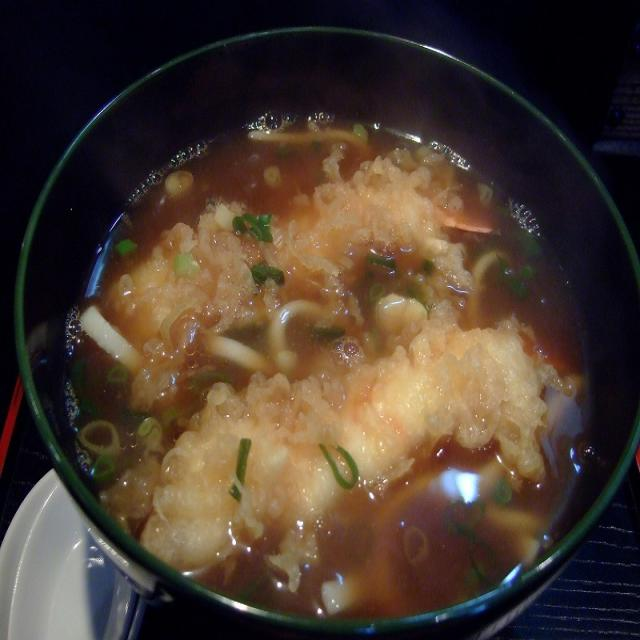面条主食: (54, 110, 598, 617)
